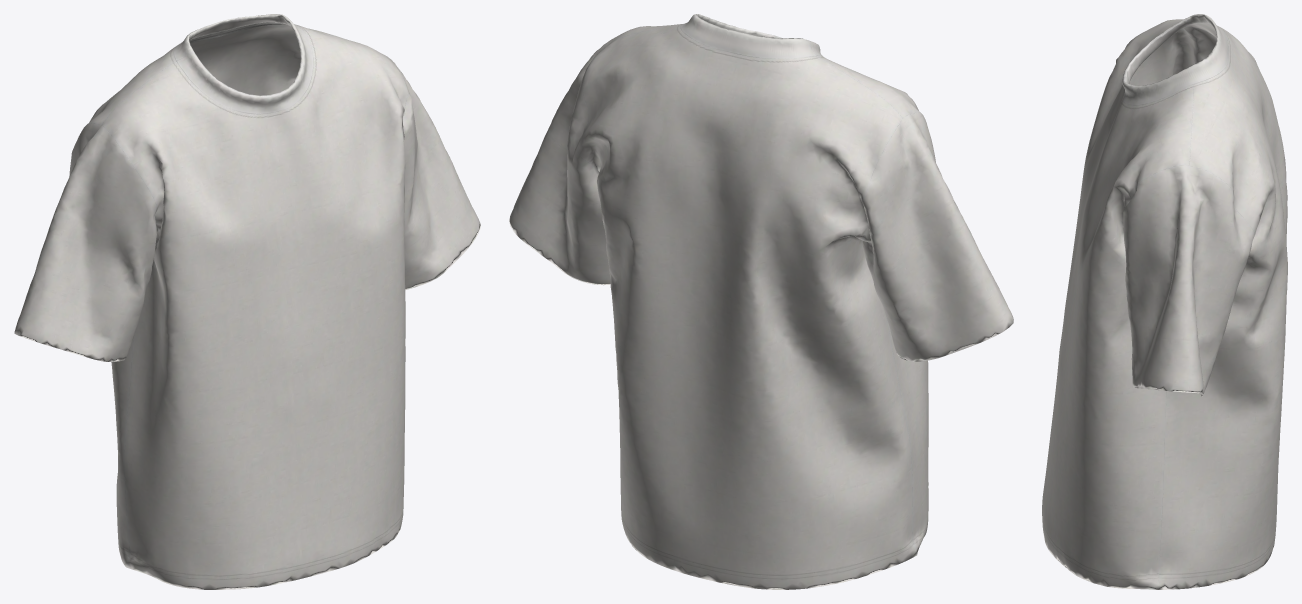
Rendered from shirt7.glb.
3 renders of one model, left to right at view 1: azimuth 30°, elevation 25°; view 2: azimuth 150°, elevation 25°; view 3: azimuth 270°, elevation 25°, orthographic. The views are drawn at different scales.
Parts seen in each view (by area): view 1: 10PD_2048; view 2: 10PD_2048; view 3: 10PD_2048.
Part boxes in pixels (box(x1,y1,x2,y2)): 10PD_2048: box(14, 14, 480, 589); 10PD_2048: box(509, 14, 1013, 589); 10PD_2048: box(1042, 14, 1287, 589).
Size of the model in its own units: 2.98 by 3.05 by 1.36.
Materials: 1 (1 with a texture image).
